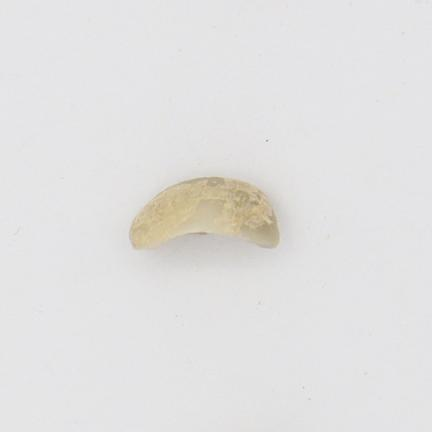shell: (130, 177, 279, 249)
